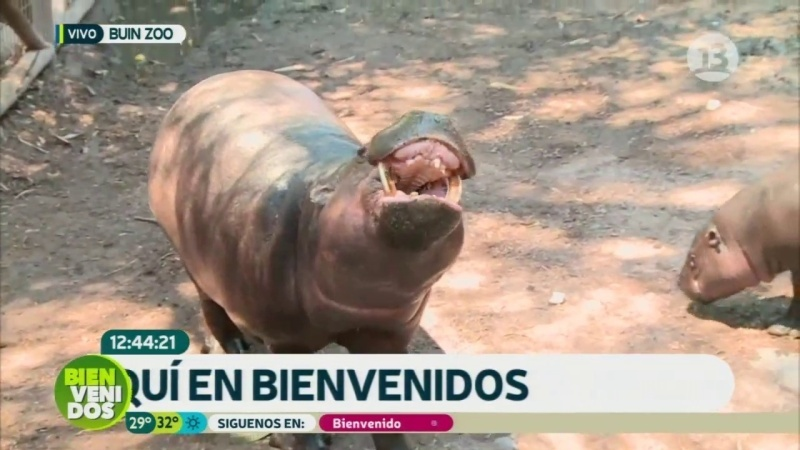hipopotamo: (128, 61, 501, 353), (665, 146, 800, 329)
